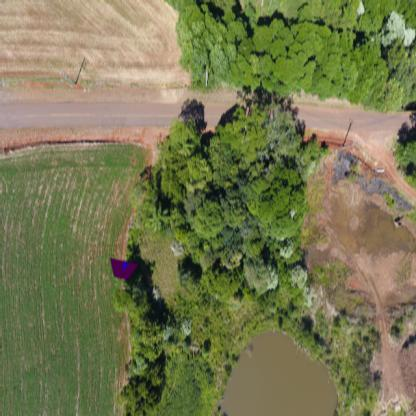F: (122, 260, 130, 271)
trapezium: (109, 257, 139, 283)
